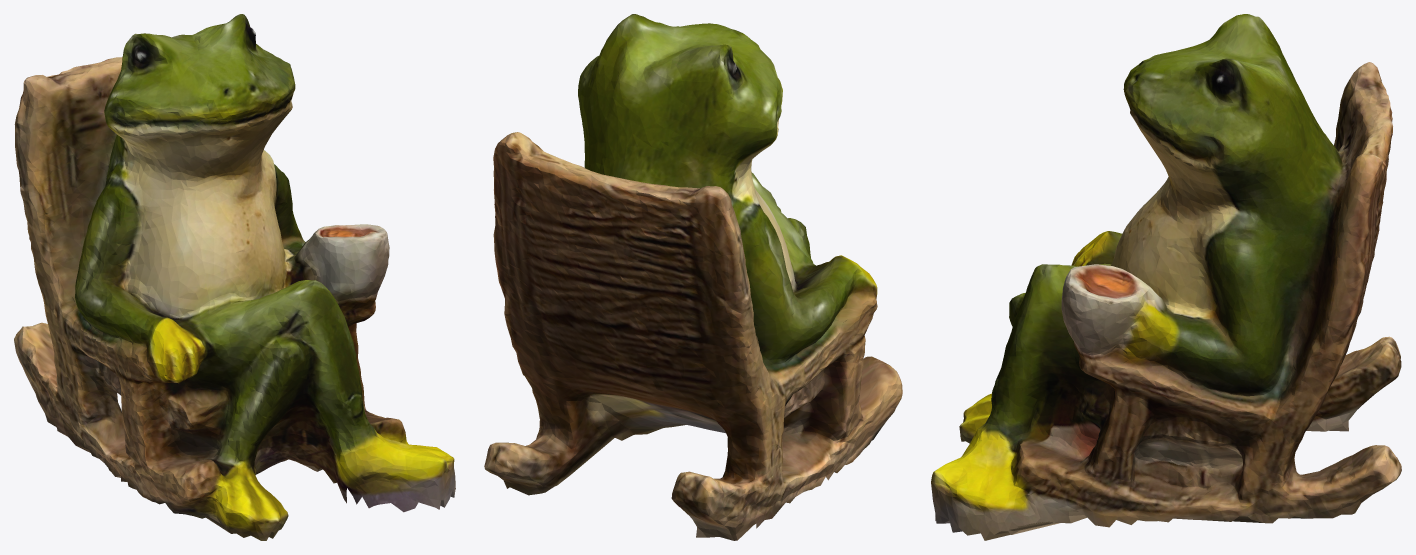
File: Froggy_rocking_chair.glb
The picture shows the model from 3 angles, left to right: view 1: azimuth 30°, elevation 25°; view 2: azimuth 150°, elevation 25°; view 3: azimuth 270°, elevation 25°; orthographic projection. The views are drawn at different scales.
Visible parts, largest first — view 1: Mesh_0; view 2: Mesh_0; view 3: Mesh_0.
Boxes of the visible parts, <box> form: Mesh_0: <box>14,14,455,540</box>; Mesh_0: <box>484,14,902,540</box>; Mesh_0: <box>931,14,1401,540</box>.
Bounding box in the file's own units: 0.0371 × 0.0558 × 0.0549.
Materials: 1 (1 with a texture image).
